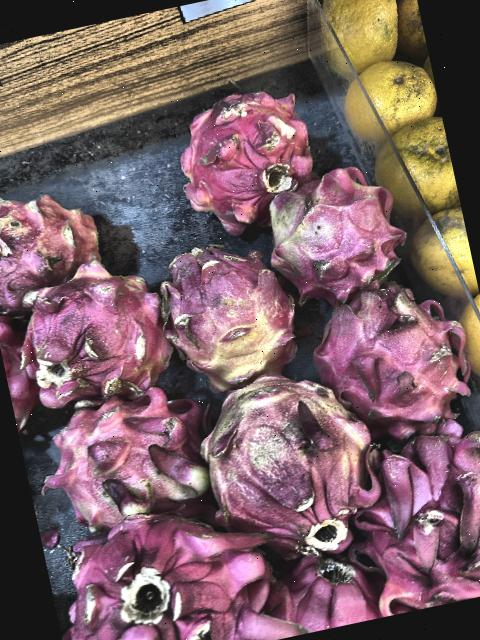buah-naga-belum-matang: (188, 354, 384, 554), (306, 267, 480, 447), (0, 257, 175, 412), (144, 233, 310, 396), (42, 379, 220, 522), (264, 159, 408, 314), (0, 170, 113, 300)
buah-naga-matang: (42, 484, 282, 640), (347, 409, 480, 616), (163, 79, 320, 217), (259, 544, 412, 640)
